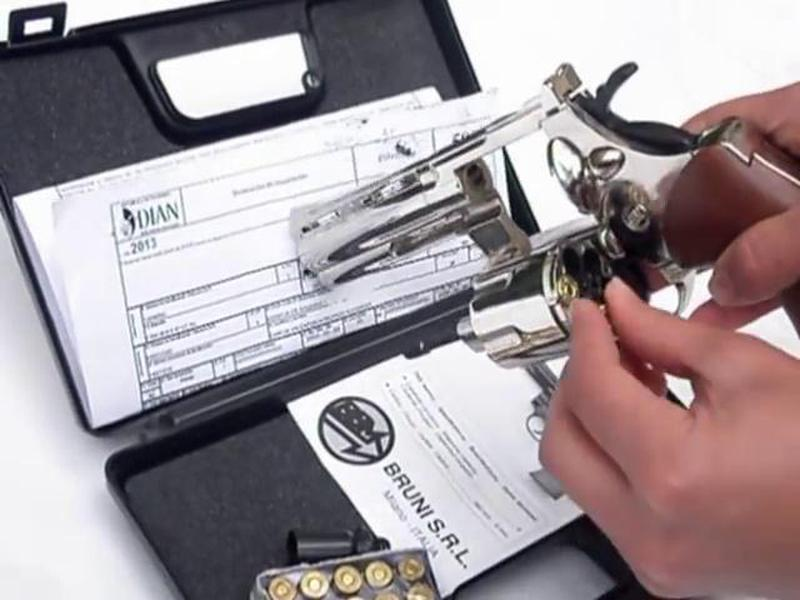Revolver: (294, 70, 800, 344)
